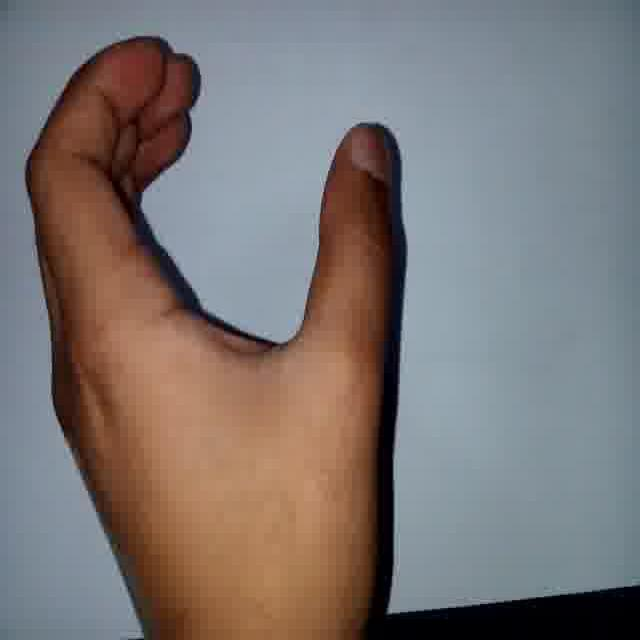Alphabet-C: (14, 25, 421, 584)
